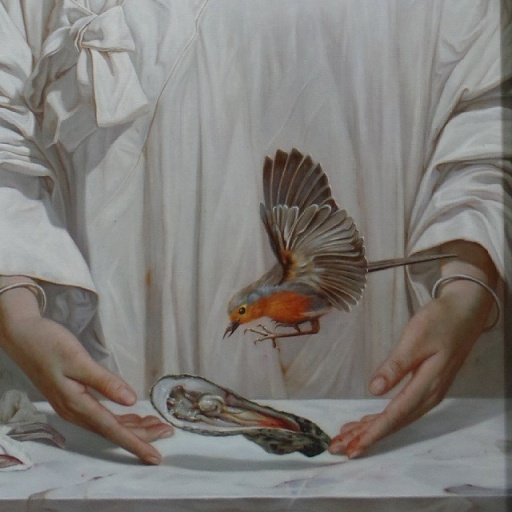hand: (2, 316, 177, 464), (360, 259, 492, 448)
